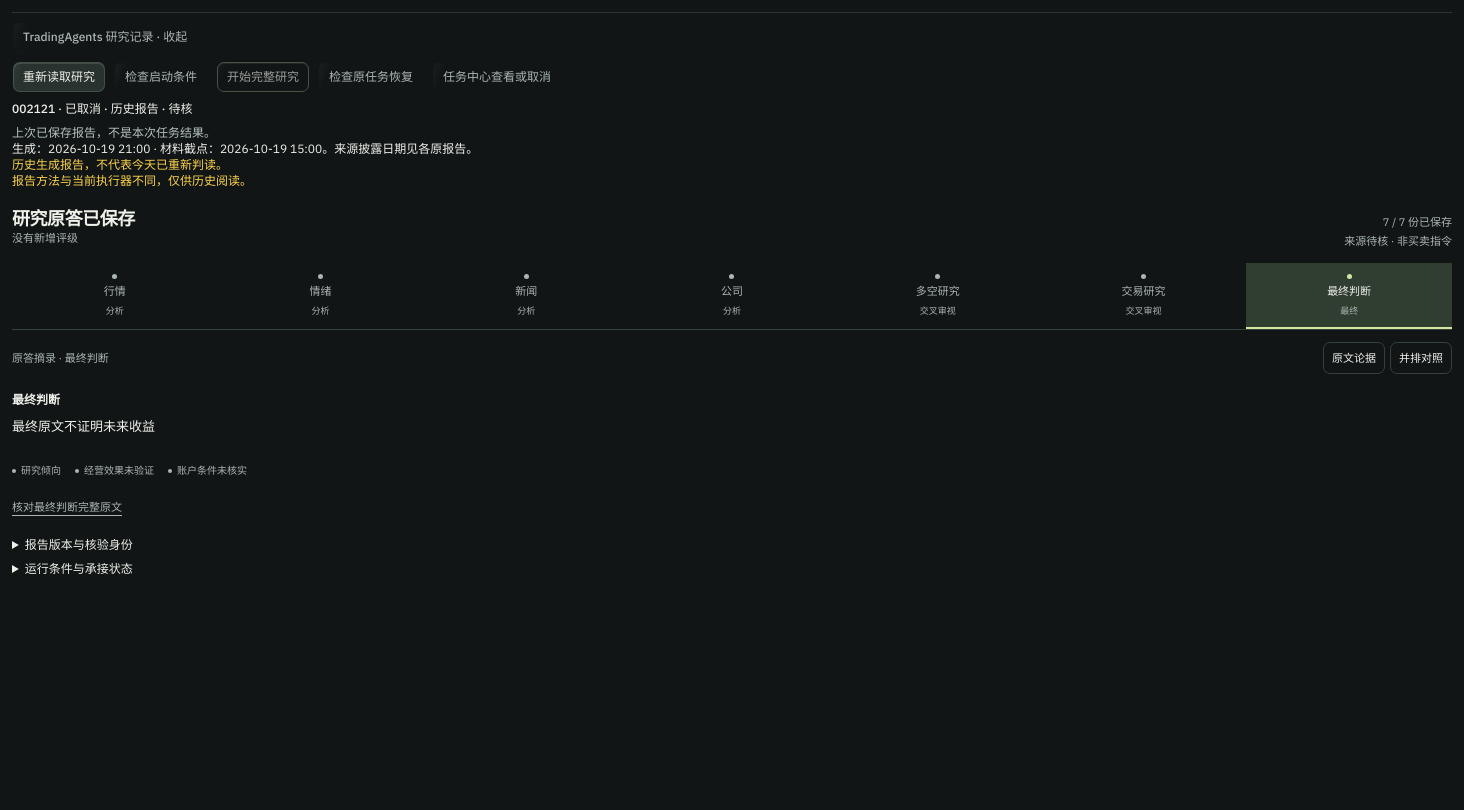
Test: 完整研究的维护恢复与任务关联 › checks the original checkpoint only on request and submits one exact recovery without recreating research
The image size is (1464, 810).
Expected: the button "恢复未完成步骤" is not shown
Click the button "检查原任务恢复".
click(371, 77)  # box [318, 61, 424, 93]
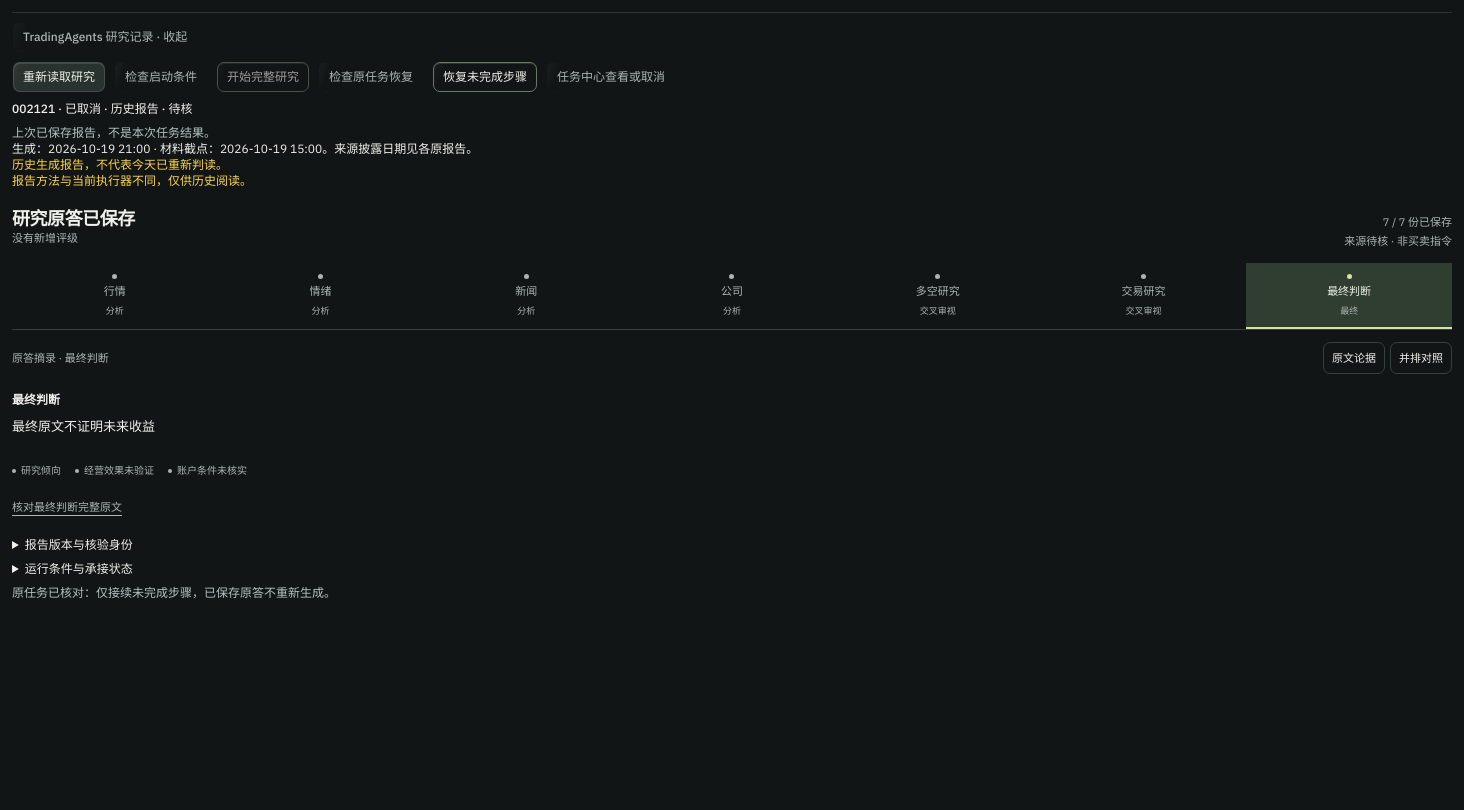
Result: the text "原任务已核对：仅接续未完成步骤，已保存原答不重新生成。" is shown at [12, 585, 336, 600]
Click the button "恢复未完成步骤".
click(485, 77)  # box [432, 61, 538, 93]
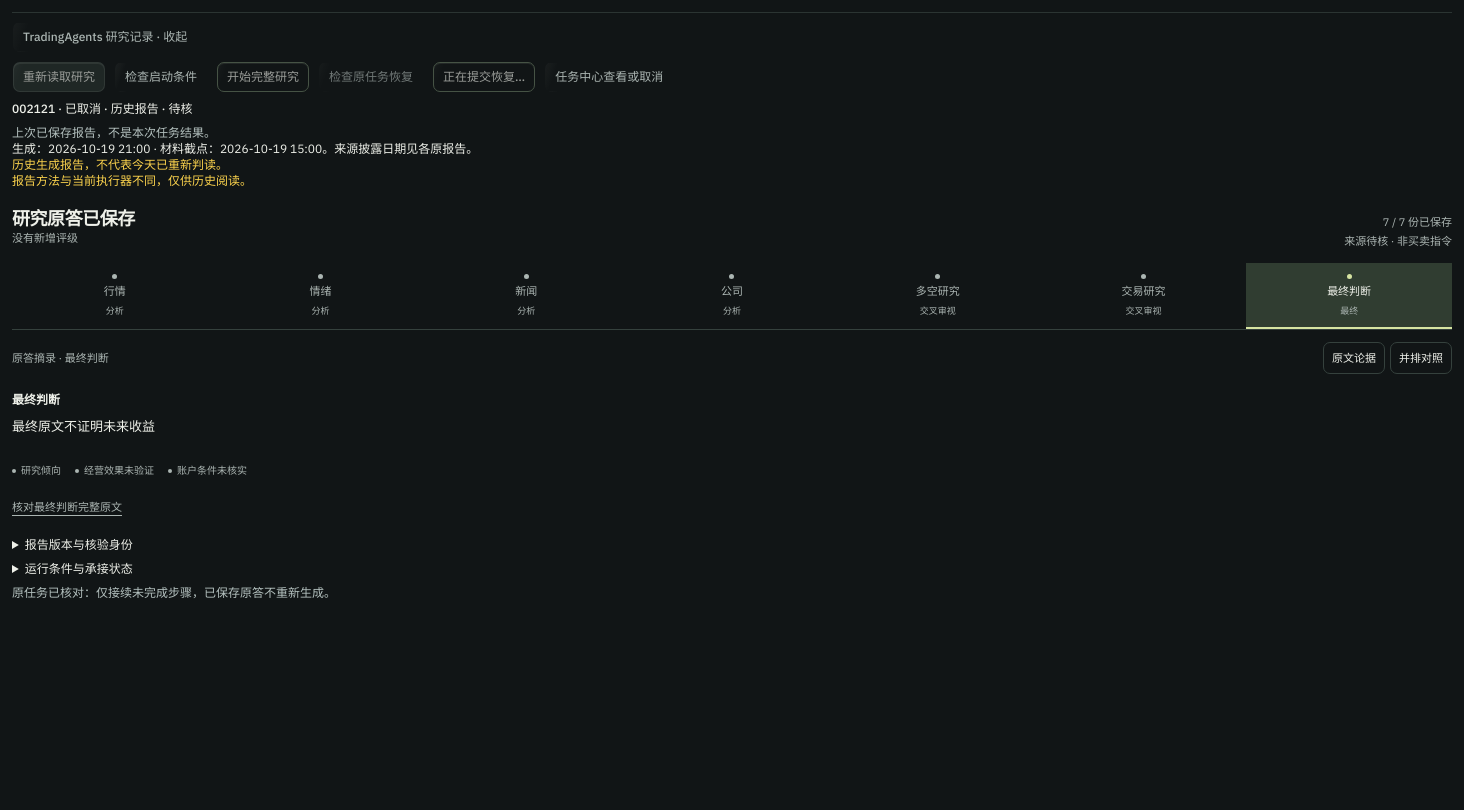
Click the button named "恢复未完成步骤".
click(484, 77)  # box [432, 61, 536, 93]
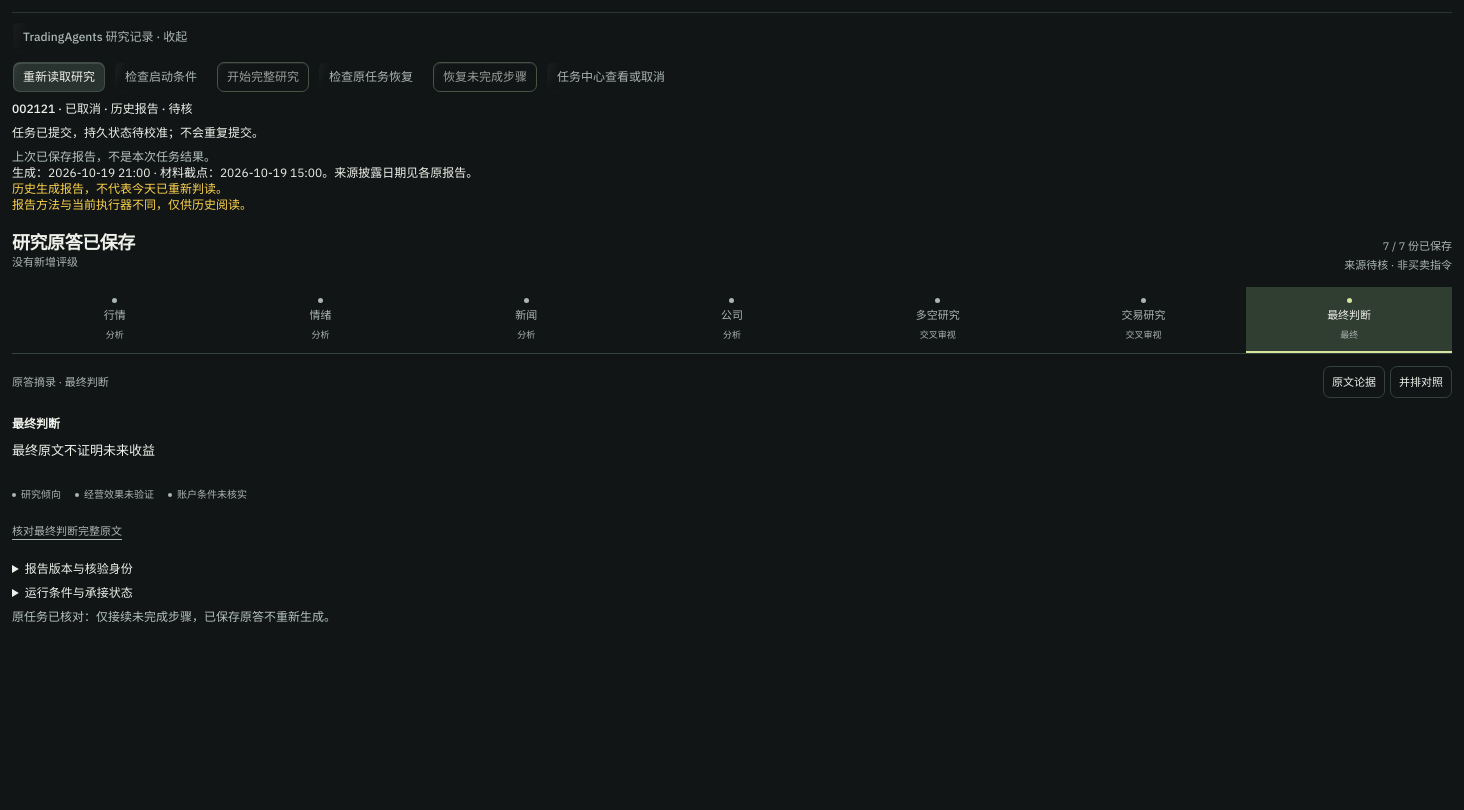
Result: the button "恢复未完成步骤" is disabled at [432, 61, 538, 93]
Result: the text "任务已提交，持久状态待校准；不会重复提交。" is shown at [12, 125, 264, 140]
